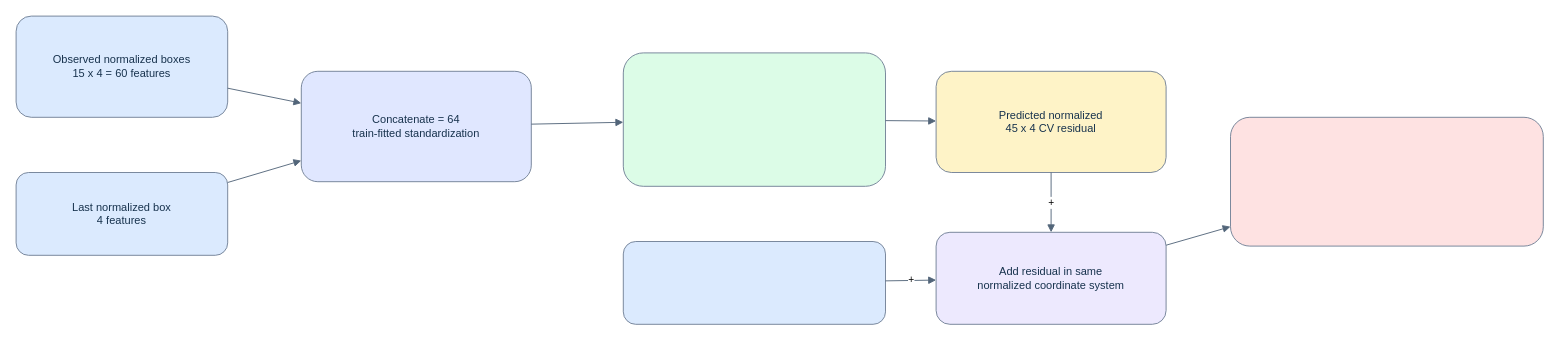
The diagram is 1559 pixels wide and 340 high, and some of its shapes have lost their labels. The shapes that lost their labels are listed below. From the top down, each one's centre as x and y in pixels, then its label:
At point 754,119: "Ridge regression alpha=100 (GP7 validation selected) 11,700 fitted coefficients".
At point 1386,181: "Frozen train-only inverse normalization to pixel forecast".
At point 754,282: "CV forecast in normalized coordinates".
